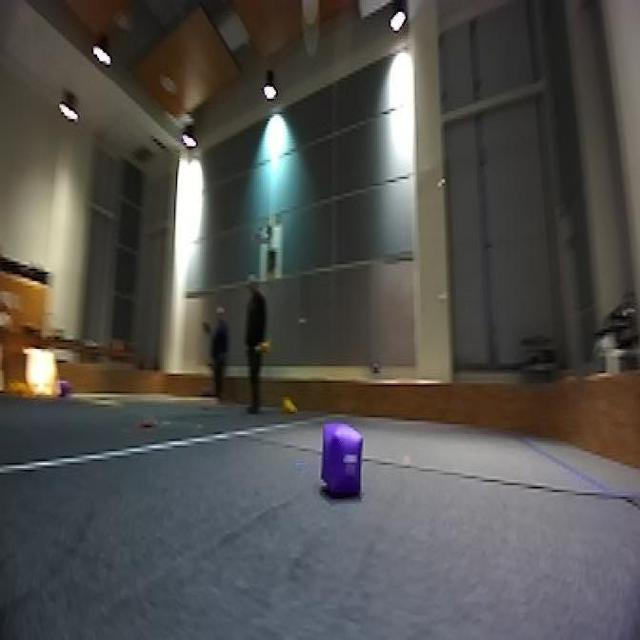frc_cone: (9, 378, 34, 398), (280, 389, 297, 414), (254, 335, 272, 356)
frc_cube: (319, 420, 365, 499), (58, 380, 72, 400)
